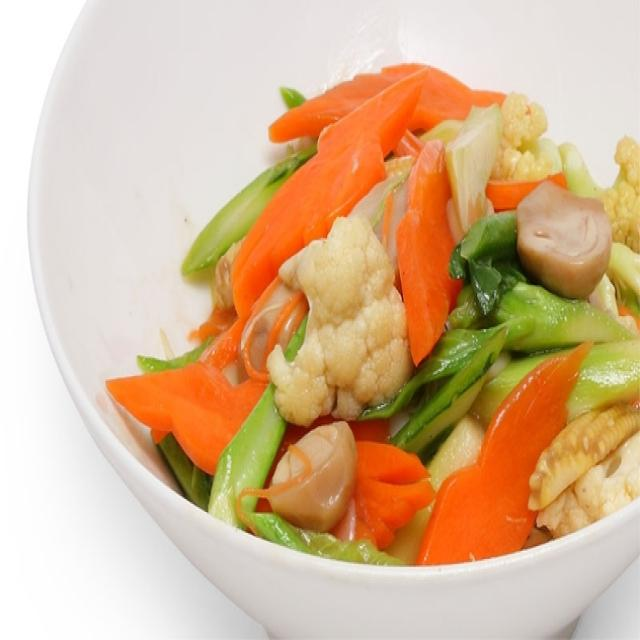蔬菜料理: (48, 18, 636, 616)
